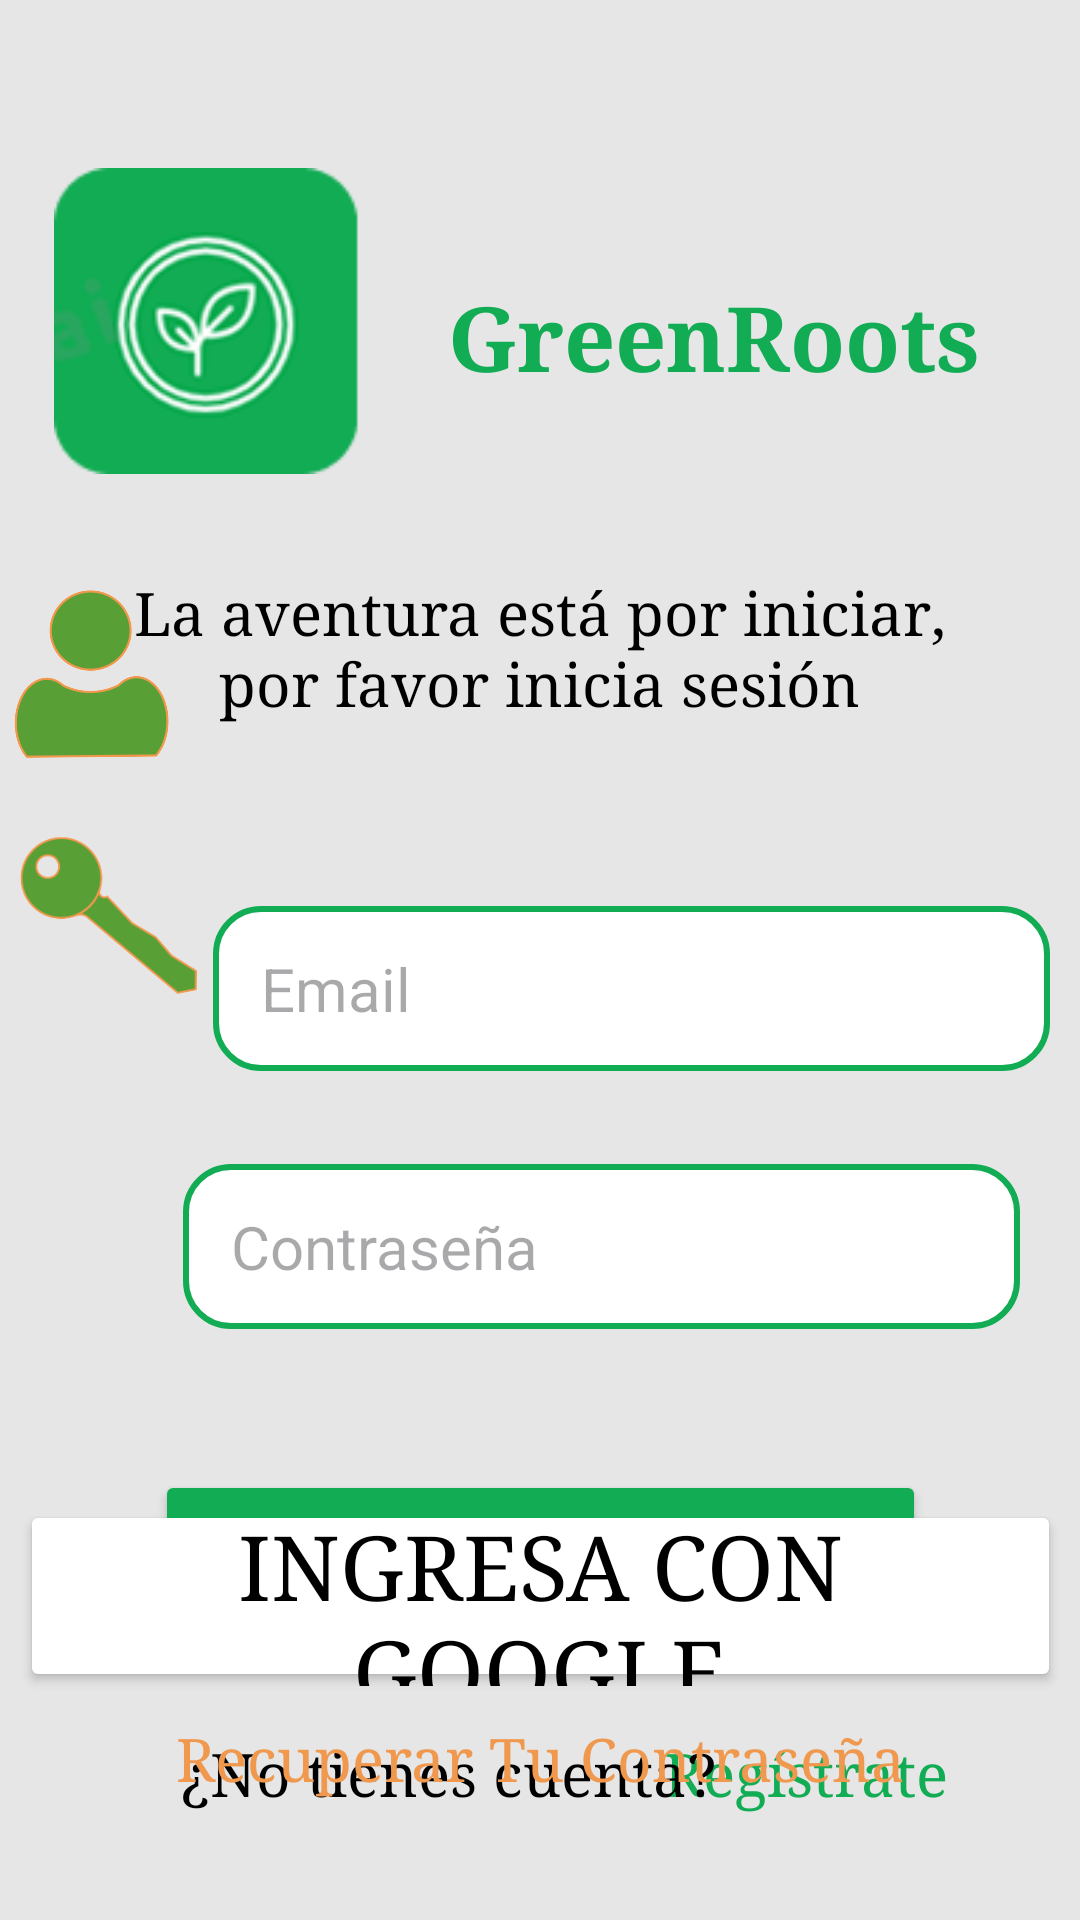

Locate icon controls on the screen. Image size 1080 x 1920, boxes as (x1=x1, y1=y1, x2=x2, y2=y2).
key: (x1=20, y1=837, x2=197, y2=994)
user: (x1=14, y1=590, x2=169, y2=758)
